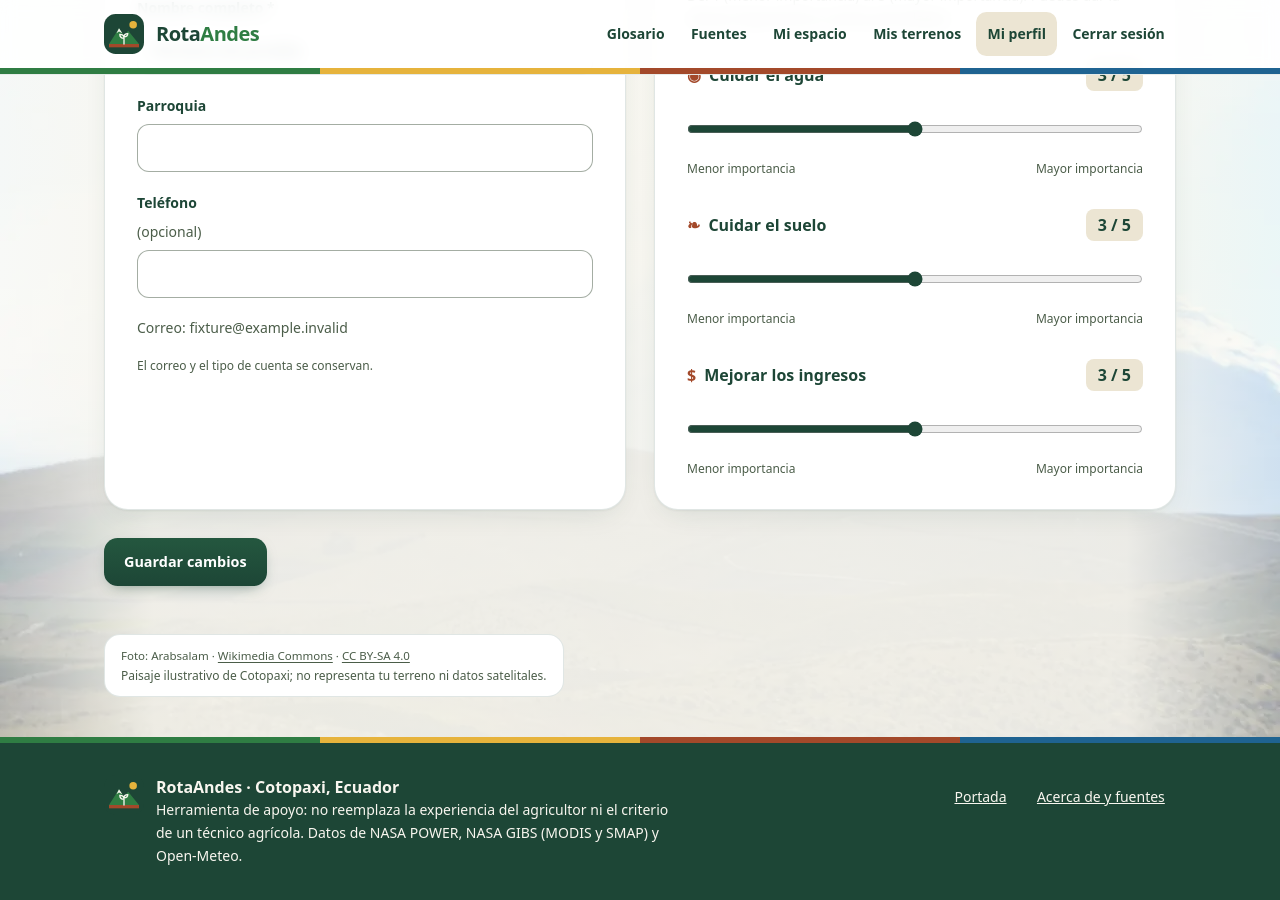
Sesión y pantallas › un 401 de la sesión anterior no cierra una cuenta recién autenticada
The width and height of the screenshot is (1280, 900).
(page scrolled)
Click the button "Guardar cambios".
click(185, 562)  # box [104, 538, 267, 586]
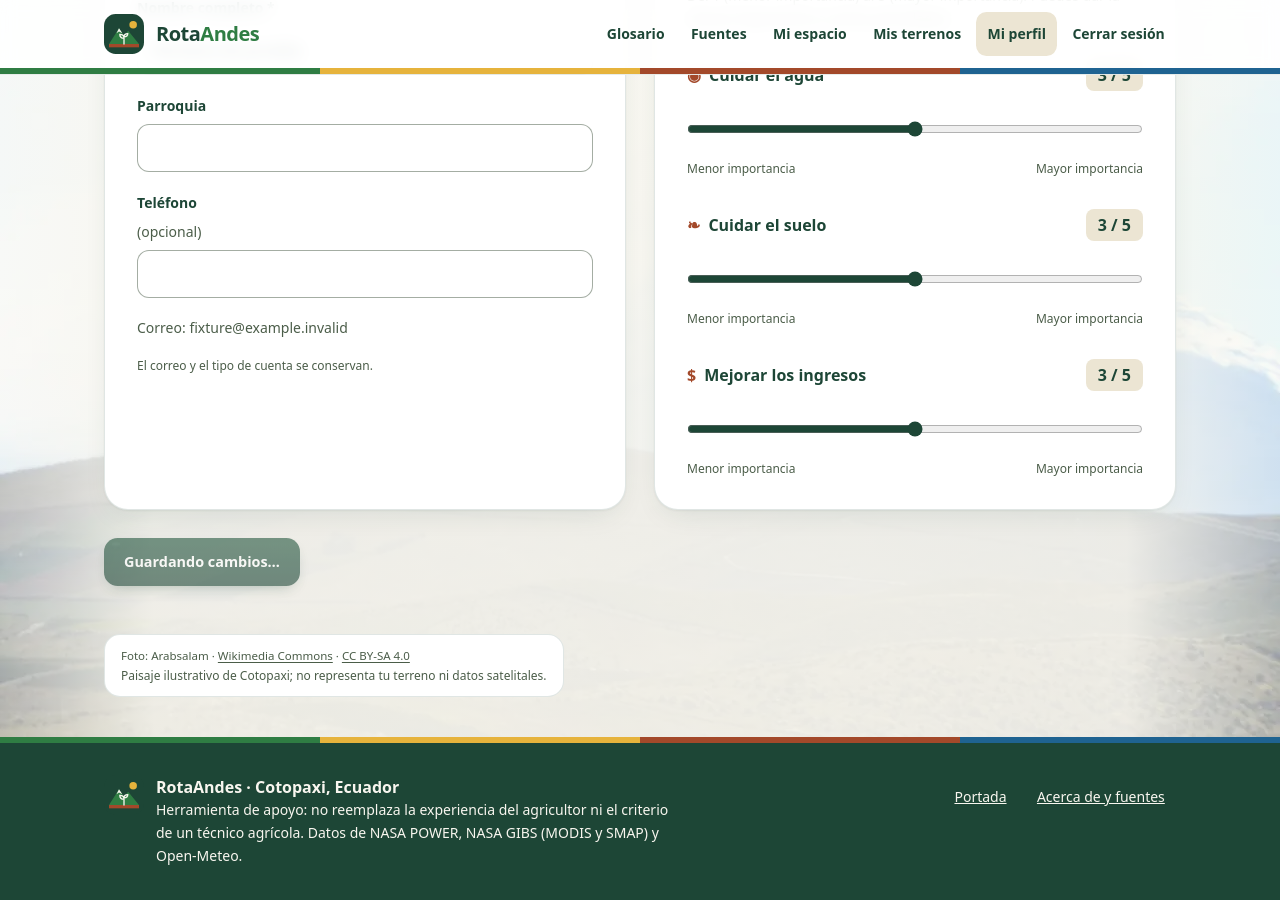
Check: the button "Guardando cambios…" is shown, box [104, 538, 300, 586]
Click the button "Cerrar sesión".
click(1119, 34)  # box [1061, 12, 1176, 56]
(page scrolled)
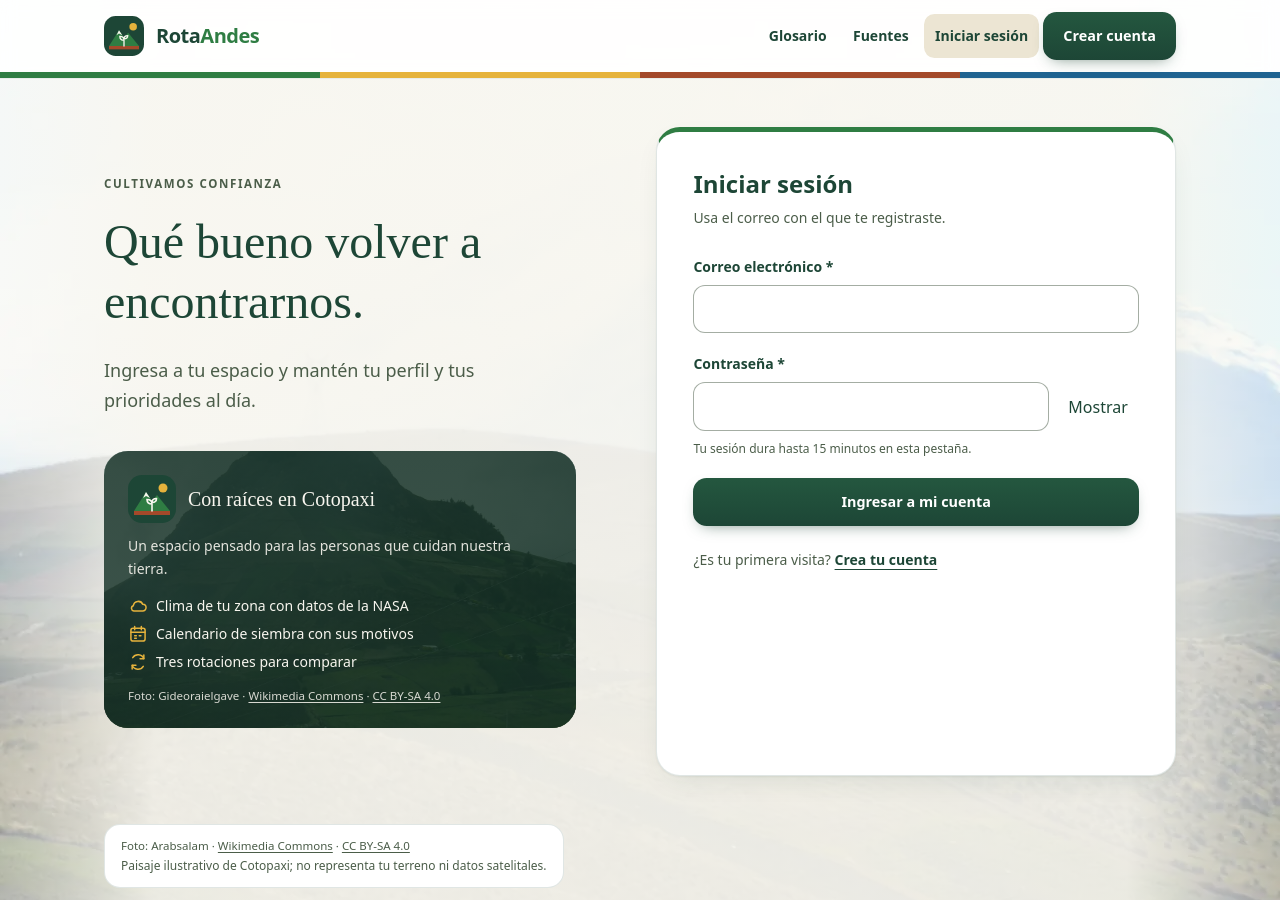
Type "fixture@example.invalid" into the field labelled "Correo electrónico *".
click(916, 309); type("fixture@example.invalid")  # box [693, 285, 1139, 333]
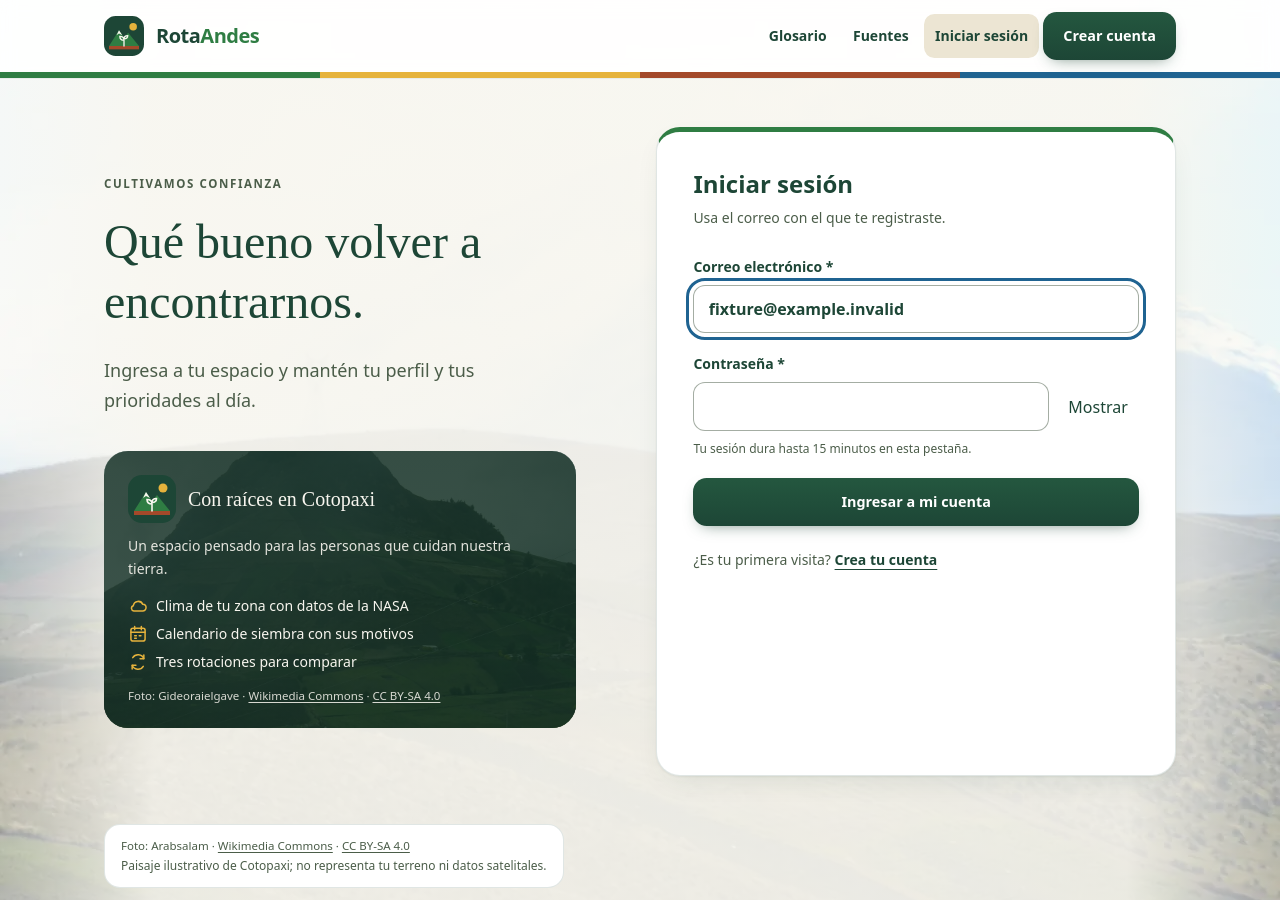
Type "clave-solo-fixture" into the password field labelled "Contraseña *".
click(871, 407); type("clave-solo-fixture")  # box [693, 382, 1049, 431]
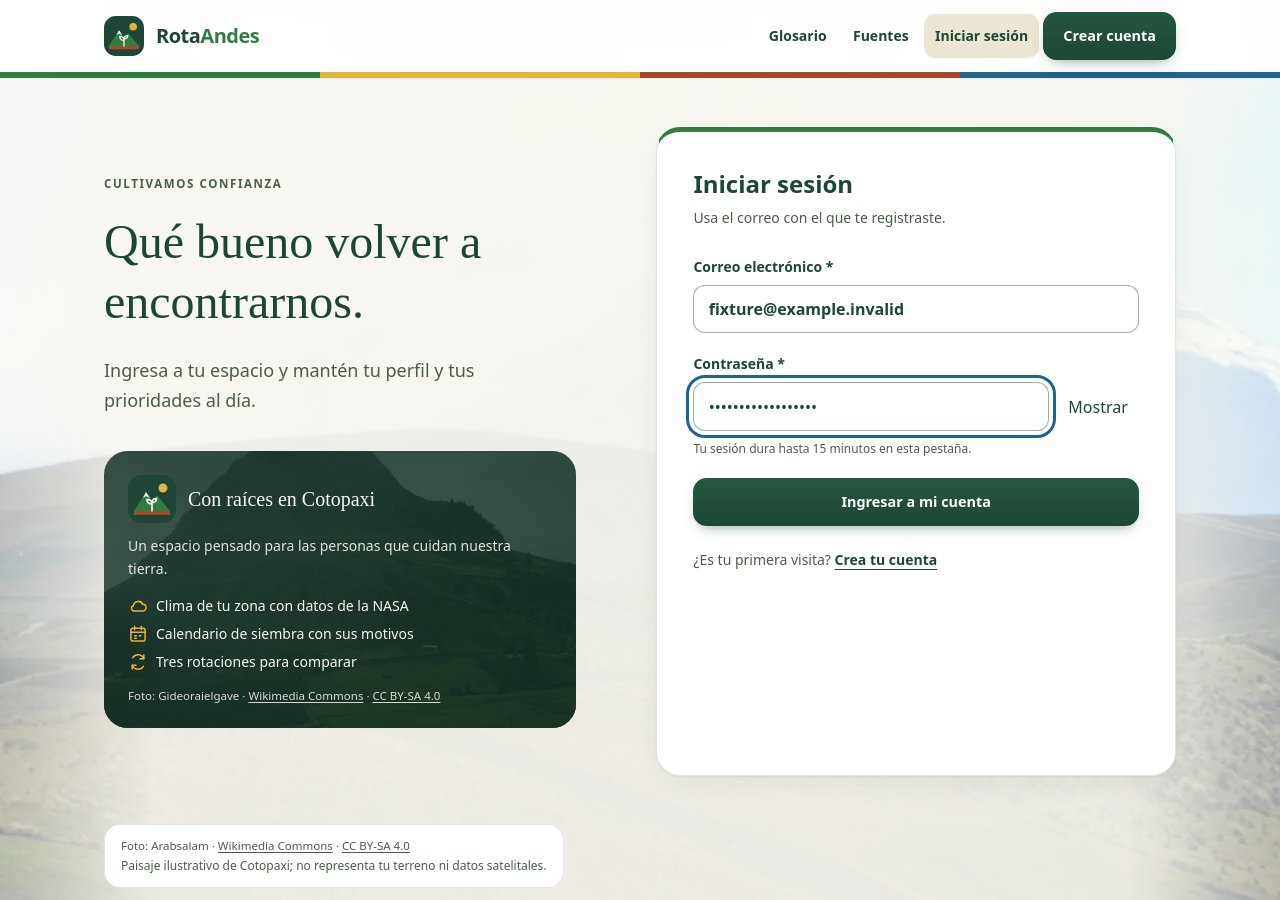
Click the button "Ingresar a mi cuenta".
click(916, 502)  # box [693, 478, 1139, 526]
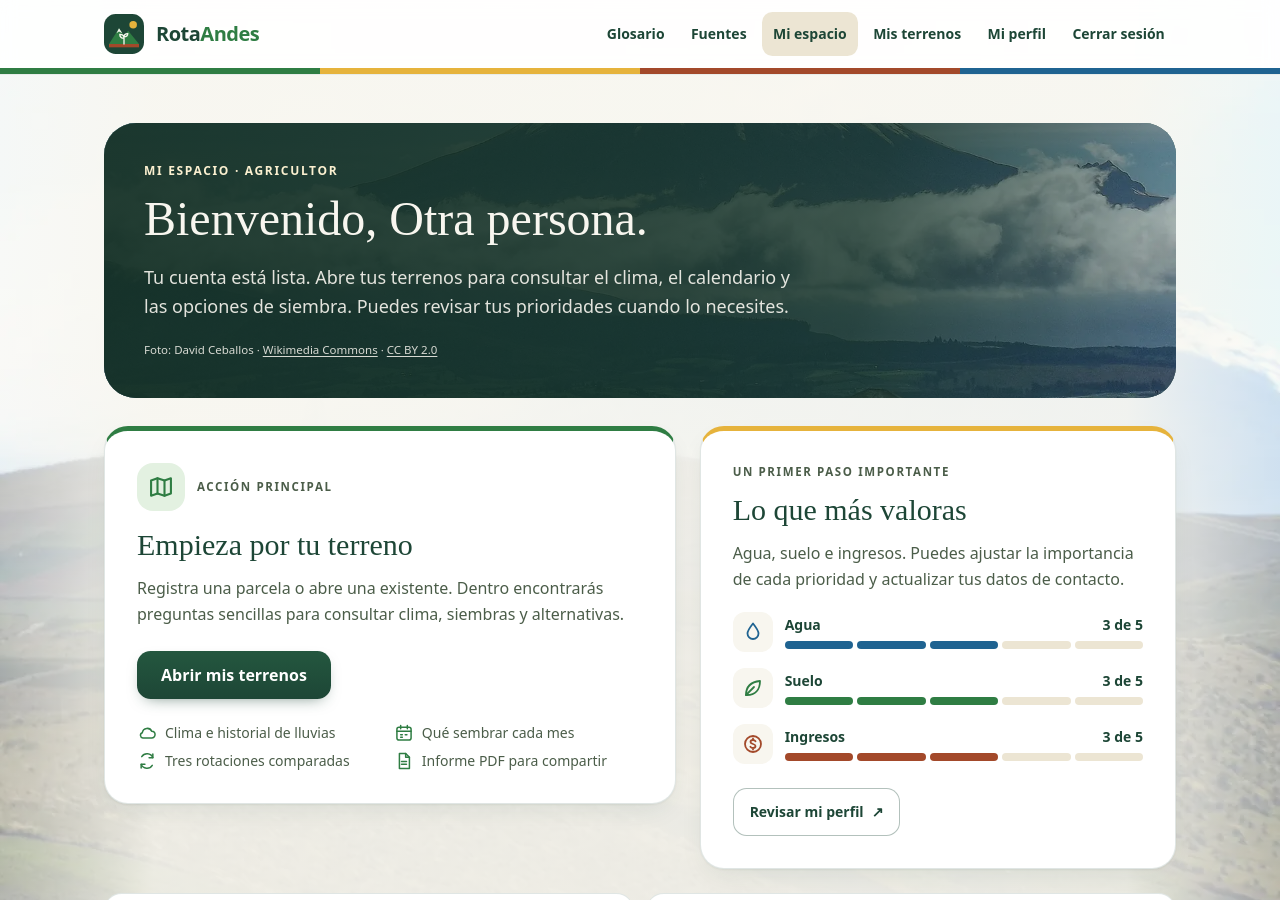
Check: the heading "Bienvenido, Otra persona." is shown, box [144, 192, 648, 245]
